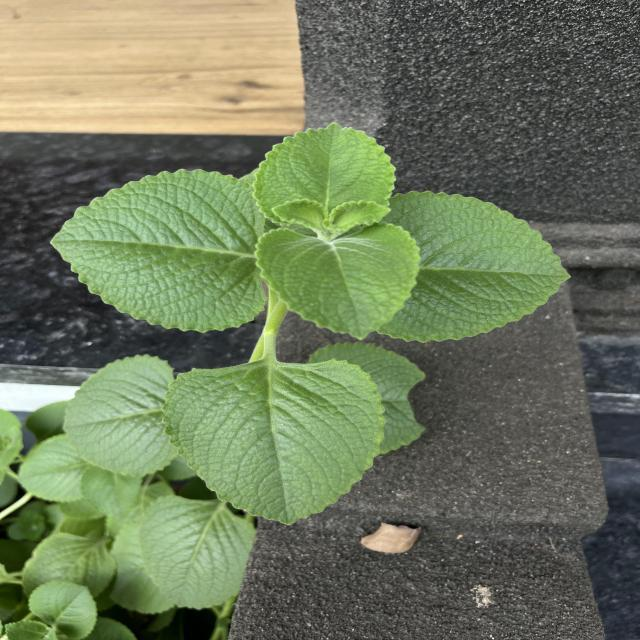Plectranthus barbatus: (161, 358, 387, 527), (48, 168, 270, 334), (385, 190, 573, 344), (253, 222, 423, 342), (251, 121, 399, 222), (64, 352, 180, 478), (27, 579, 100, 640)
